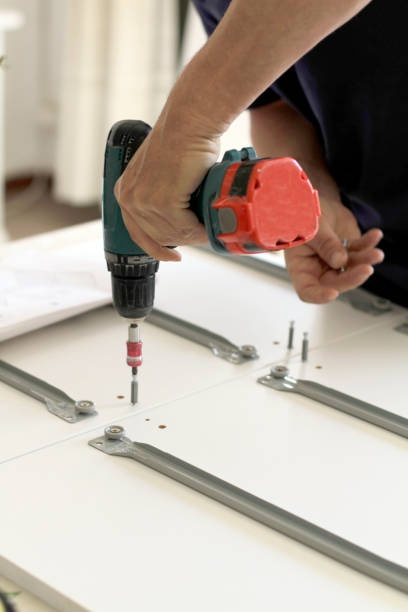driller: (99, 118, 318, 412)
